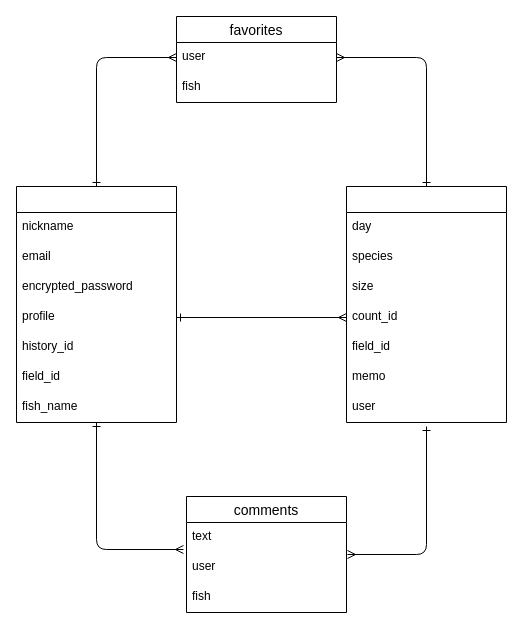
Image size: 523x629. Some labels were removed from this diagram. The box of each missing label's shape, as (x1, y1, x2, y2) in pixels:
fishings: (346, 186, 506, 422)
users: (16, 186, 176, 422)
